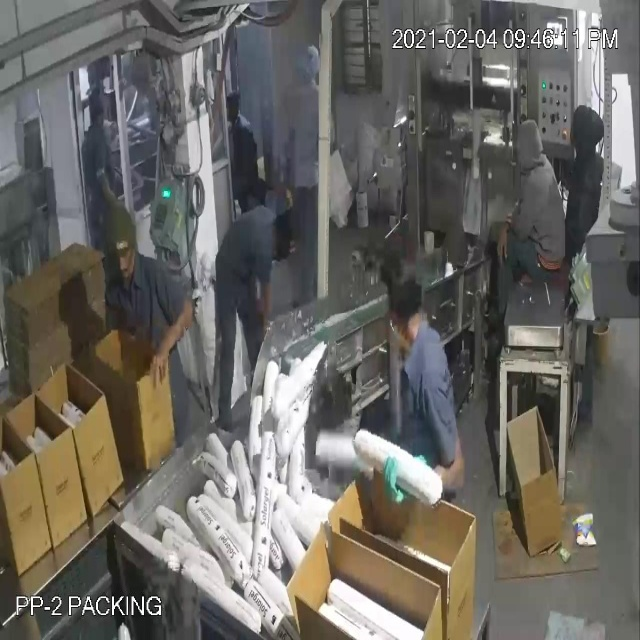Guantes: (382, 440, 436, 516)
Sin_guantes: (142, 291, 201, 390), (249, 265, 285, 345), (493, 215, 521, 287)
